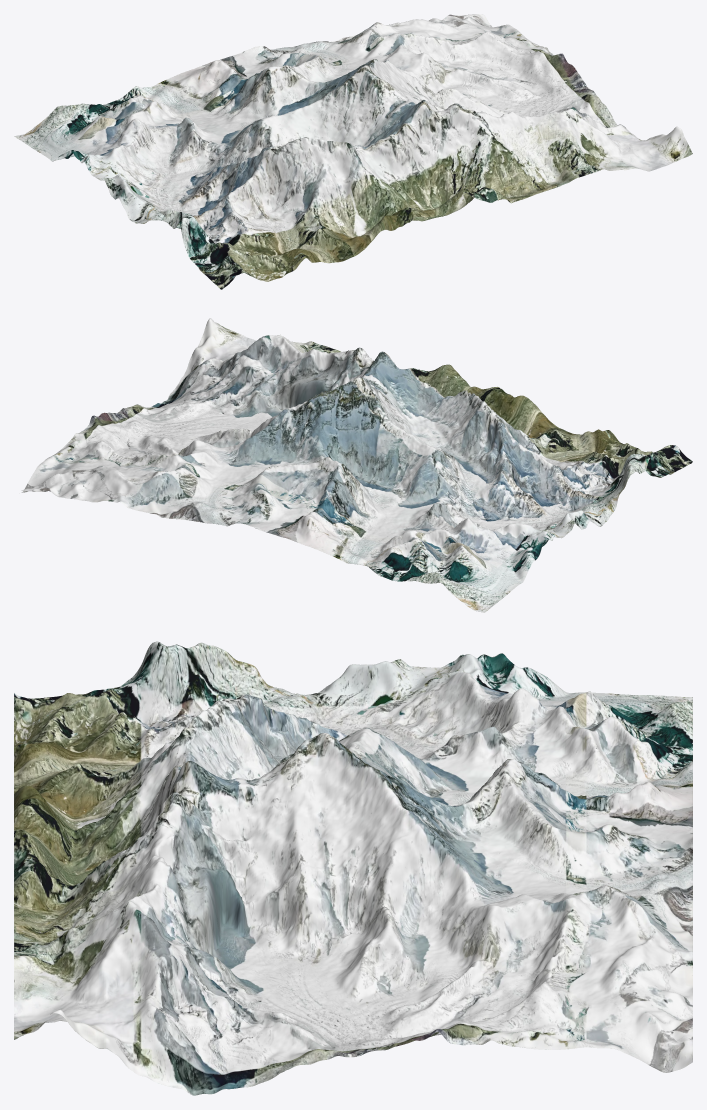
Rendered from everest_hero_lo_opt.glb.
3 renders of one model, top to bottom at view 1: azimuth 30°, elevation 25°; view 2: azimuth 150°, elevation 25°; view 3: azimuth 270°, elevation 25°, orthographic. The views are drawn at different scales.
Visible parts, largest first — view 1: world; view 2: world; view 3: world.
Part boxes in pixels (left/top/right/bottom): world: left=14, top=14, right=692, bottom=289; world: left=21, top=318, right=692, bottom=612; world: left=14, top=641, right=692, bottom=1095.
Bounding box in the file's own units: 18480 × 4081 × 14137.
Materials: 1 (1 with a texture image).
